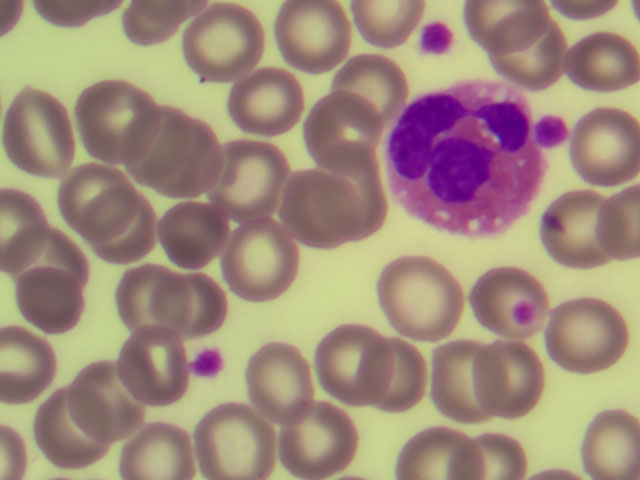Platelets: (536, 113, 567, 150), (421, 21, 453, 54), (193, 347, 225, 378), (516, 300, 537, 327), (540, 211, 563, 232)
RBC: (3, 86, 77, 175), (380, 259, 459, 337), (434, 343, 508, 424), (82, 83, 157, 161), (278, 399, 350, 477), (213, 141, 287, 216), (186, 12, 261, 85), (321, 146, 384, 232), (550, 304, 627, 372), (320, 327, 387, 405), (309, 97, 381, 168), (67, 162, 135, 234), (247, 346, 313, 420), (12, 229, 87, 292), (488, 337, 541, 426), (34, 393, 102, 462), (73, 367, 143, 434), (492, 18, 566, 80), (206, 413, 274, 480), (292, 172, 354, 245), (137, 105, 193, 185), (233, 224, 296, 295), (276, 4, 349, 65), (403, 428, 488, 480), (89, 188, 153, 257), (237, 70, 305, 134), (578, 110, 640, 178), (117, 272, 186, 332), (157, 272, 227, 331), (570, 30, 640, 89), (125, 331, 184, 400), (165, 121, 220, 192), (467, 2, 549, 49), (1, 326, 51, 403), (21, 274, 84, 335), (120, 428, 192, 480), (587, 409, 640, 479), (1, 189, 46, 270), (340, 58, 403, 113), (567, 190, 614, 263), (159, 205, 224, 256), (355, 1, 417, 50), (465, 434, 530, 480), (602, 192, 640, 256), (119, 7, 173, 45), (1, 422, 27, 480), (132, 1, 193, 25), (38, 1, 105, 22), (546, 1, 619, 20), (542, 234, 572, 262), (1, 1, 24, 34)
WBC: (402, 89, 534, 231)
